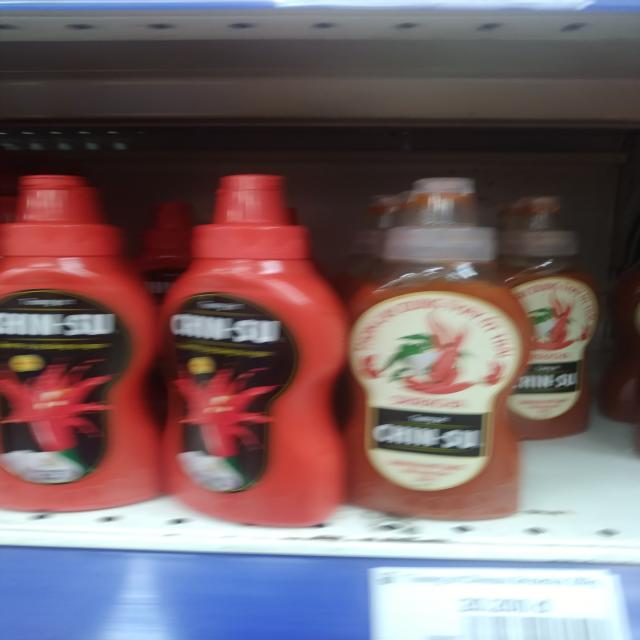tuong ot chinsu: (162, 173, 353, 527), (0, 170, 167, 514)
